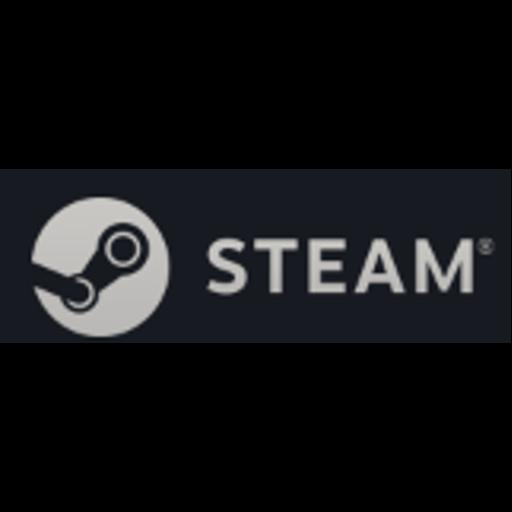Steam: (0, 169, 511, 343)
